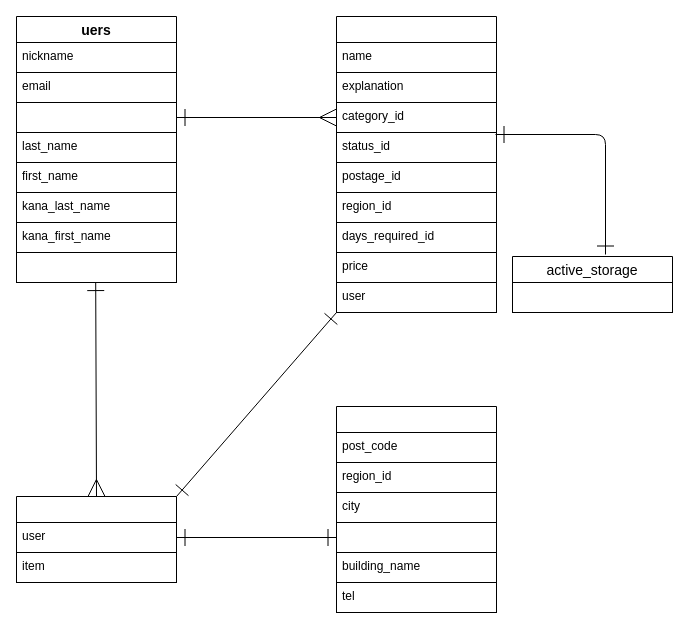
This 689x629 diagram has some shape labels left out. Each missing label, with the box of its shape:
address: (336, 522, 496, 552)
birthday: (16, 252, 176, 282)
encrypted_password: (16, 102, 176, 132)
image: (512, 282, 672, 312)
items: (336, 16, 496, 312)
orders: (16, 496, 176, 582)
shipping_destinations: (336, 406, 496, 612)
